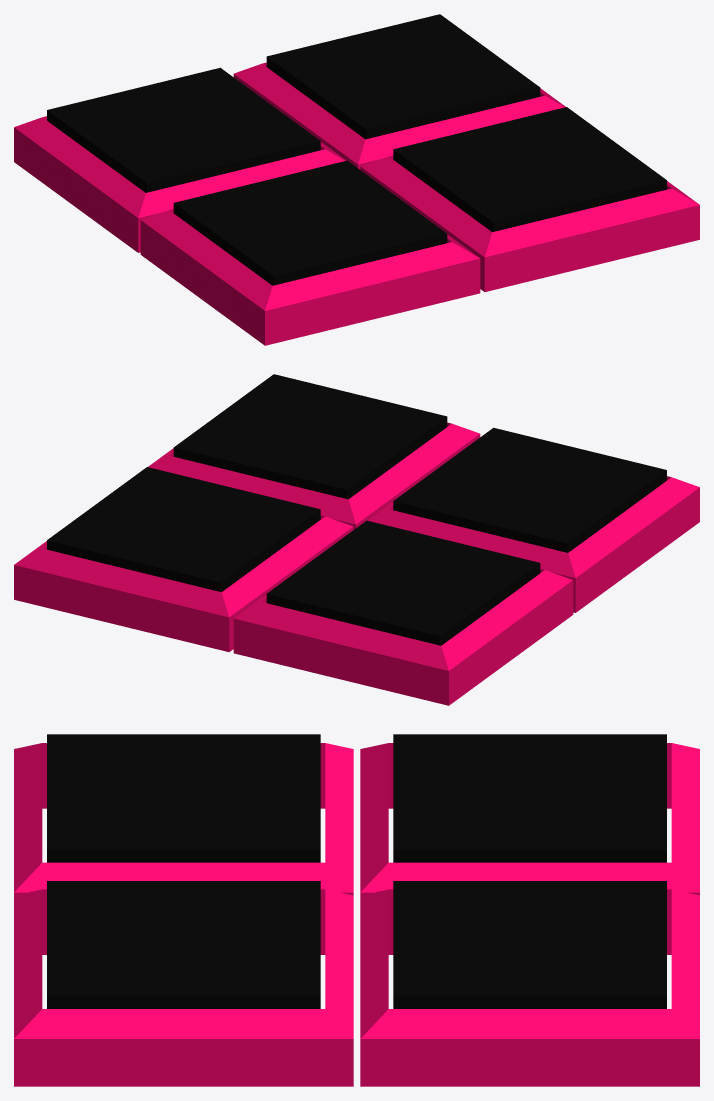
File: chess3.gltf
3 renders of one model, top to bottom at view 1: azimuth 30°, elevation 25°; view 2: azimuth 150°, elevation 25°; view 3: azimuth 270°, elevation 25°, orthographic. The views are drawn at different scales.
Visible parts, largest first — view 1: trim.003, tile, tile.003, tile.002, tile.001, trim.001, trim.002, trim; view 2: trim.002, tile.001, tile.002, tile.003, tile, trim, trim.003, trim.001; view 3: tile.002, tile.003, tile, tile.001, trim, trim.001, trim.002, trim.003.
Boxes of the visible parts, left/top/right/bottom form: trim.003: left=140, top=209, right=480, bottom=345; tile: left=266, top=14, right=540, bottom=139; tile.003: left=173, top=160, right=447, bottom=285; tile.002: left=47, top=67, right=320, bottom=192; tile.001: left=393, top=107, right=666, bottom=231; trim.001: left=360, top=155, right=699, bottom=291; trim.002: left=14, top=116, right=345, bottom=252; trim: left=233, top=62, right=565, bottom=169; trim.002: left=233, top=569, right=573, bottom=705; tile.001: left=173, top=374, right=447, bottom=499; tile.002: left=266, top=520, right=540, bottom=645; tile.003: left=393, top=427, right=666, bottom=552; tile: left=47, top=467, right=320, bottom=591; trim: left=14, top=515, right=353, bottom=651; trim.003: left=368, top=476, right=699, bottom=612; trim.001: left=148, top=422, right=480, bottom=529; tile.002: left=393, top=734, right=666, bottom=862; tile.003: left=47, top=734, right=320, bottom=862; tile: left=393, top=881, right=666, bottom=1008; tile.001: left=47, top=881, right=320, bottom=1008; trim: left=360, top=889, right=699, bottom=1086; trim.001: left=14, top=889, right=353, bottom=1086; trim.002: left=360, top=743, right=699, bottom=895; trim.003: left=14, top=743, right=353, bottom=895.
Bounding box in the file's own units: 3.96 × 0.485 × 3.96.
